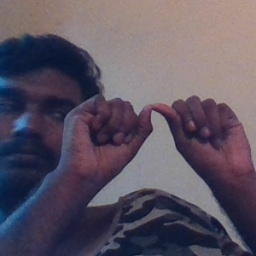A: (96, 90, 222, 186)
